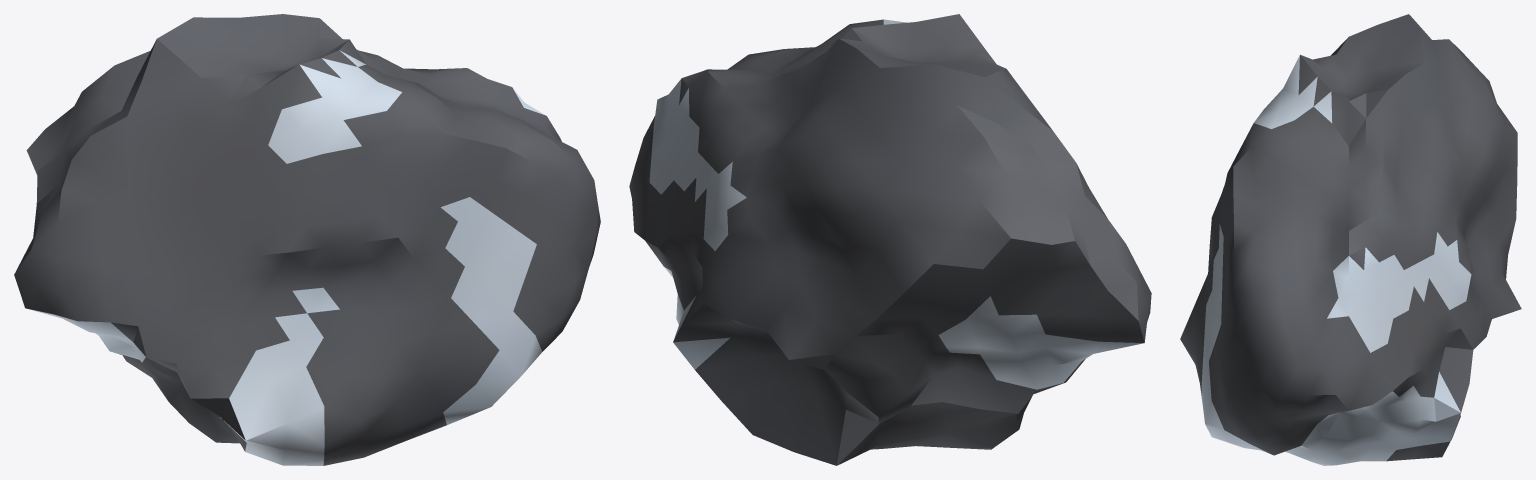
Rendered from asteroid_titanium_02.glb.
3 renders of one model, left to right at view 1: azimuth 30°, elevation 25°; view 2: azimuth 150°, elevation 25°; view 3: azimuth 270°, elevation 25°, orthographic. The views are drawn at different scales.
Visible parts, largest first — view 1: asteroid_titanium_02; view 2: asteroid_titanium_02; view 3: asteroid_titanium_02.
Boxes of the visible parts, bbox=[...] form: asteroid_titanium_02: bbox=[14, 14, 600, 465]; asteroid_titanium_02: bbox=[629, 14, 1151, 465]; asteroid_titanium_02: bbox=[1180, 14, 1521, 465].
Size of the model in its own units: 2.85 by 2.1 by 1.74.
